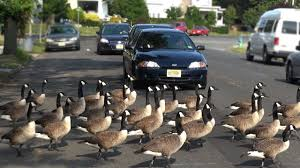goose: (135, 110, 187, 168), (79, 108, 132, 161), (240, 123, 296, 168), (1, 99, 39, 159), (42, 96, 75, 150), (222, 93, 260, 138), (181, 101, 216, 145), (77, 98, 114, 134), (136, 85, 162, 132), (1, 89, 35, 121), (110, 73, 137, 110), (66, 78, 89, 118), (39, 91, 65, 125), (1, 82, 29, 111), (229, 84, 261, 109), (133, 85, 153, 120), (88, 81, 107, 111), (32, 78, 49, 111), (164, 84, 182, 111), (184, 83, 205, 106), (87, 77, 101, 101)
